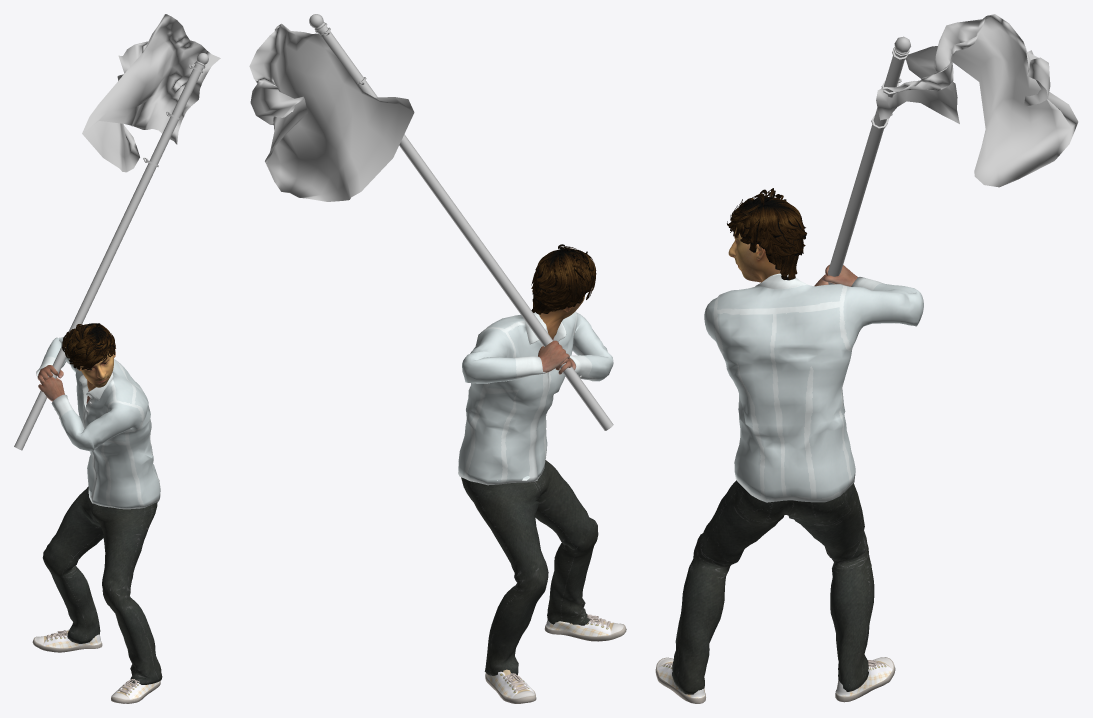
Rendered from oren_flag_v9.fbx.
The picture shows the model from 3 angles, left to right: view 1: azimuth 30°, elevation 25°; view 2: azimuth 150°, elevation 25°; view 3: azimuth 270°, elevation 25°; orthographic projection. The views are drawn at different scales.
Parts seen in each view (by area): view 1: Bottoms, Tops, Object_12, FlagPole_FlagPole1_0, Object001, Shoes, Body, default001; view 2: Object_12, Tops, Bottoms, FlagPole_FlagPole1_0, Object001, Shoes, Body; view 3: Tops, Bottoms, Object_12, Object001, FlagPole_FlagPole1_0, Shoes, default001.
Boxes of the visible parts, box(x1,y1,x2,y2) form: Bottoms: box(42, 486, 162, 684); Tops: box(36, 337, 160, 509); Object_12: box(82, 14, 220, 172); FlagPole_FlagPole1_0: box(14, 53, 208, 450); Object001: box(62, 323, 115, 369); Shoes: box(32, 629, 160, 703); Body: box(37, 365, 90, 403); default001: box(78, 348, 115, 390); Object_12: box(249, 23, 414, 201); Tops: box(458, 311, 613, 485); Bottoms: box(461, 460, 598, 675); FlagPole_FlagPole1_0: box(309, 14, 613, 430); Object001: box(531, 244, 596, 314); Shoes: box(485, 614, 626, 703); Body: box(538, 337, 575, 374); Tops: box(704, 273, 923, 502); Bottoms: box(672, 480, 874, 694); Object_12: box(876, 14, 1078, 187); Object001: box(727, 188, 806, 280); FlagPole_FlagPole1_0: box(828, 36, 910, 284); Shoes: box(655, 657, 895, 703); default001: box(728, 227, 780, 282).
Bounding box in the file's own units: 126 × 277 × 138.
